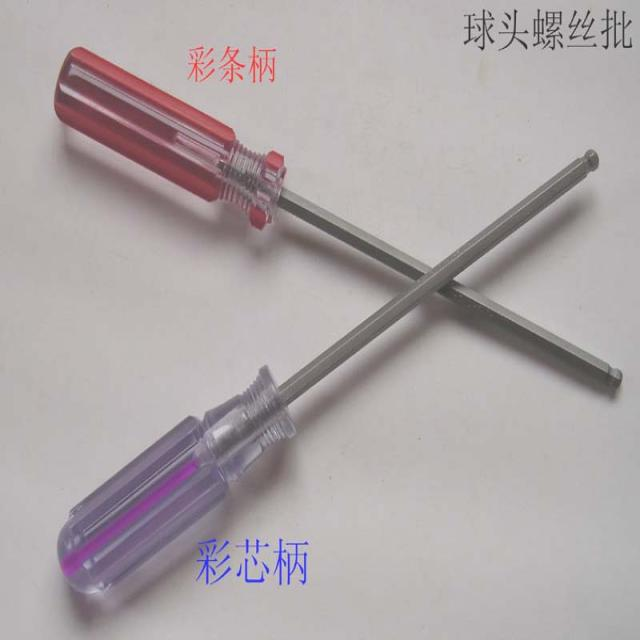screw_driver: (55, 47, 621, 591)
